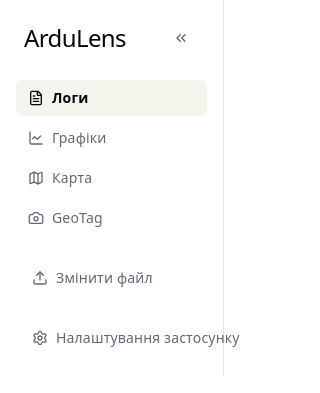
Test: Sidebar › hides the title and tab labels once collapsed, keeping tabs reachable by accessible name
Click the button named "Згорнути бічну панель": coordinates (181, 38) [163,20,199,56]
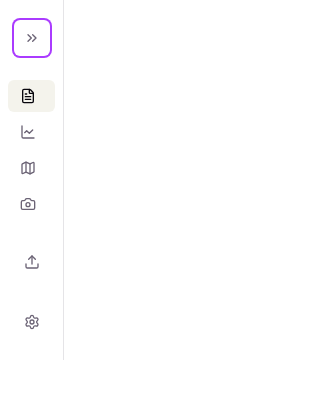
Check: the tab named "Логи" is shown, box [8,80,55,112]
Check: the heading "ArduLens" is gone
